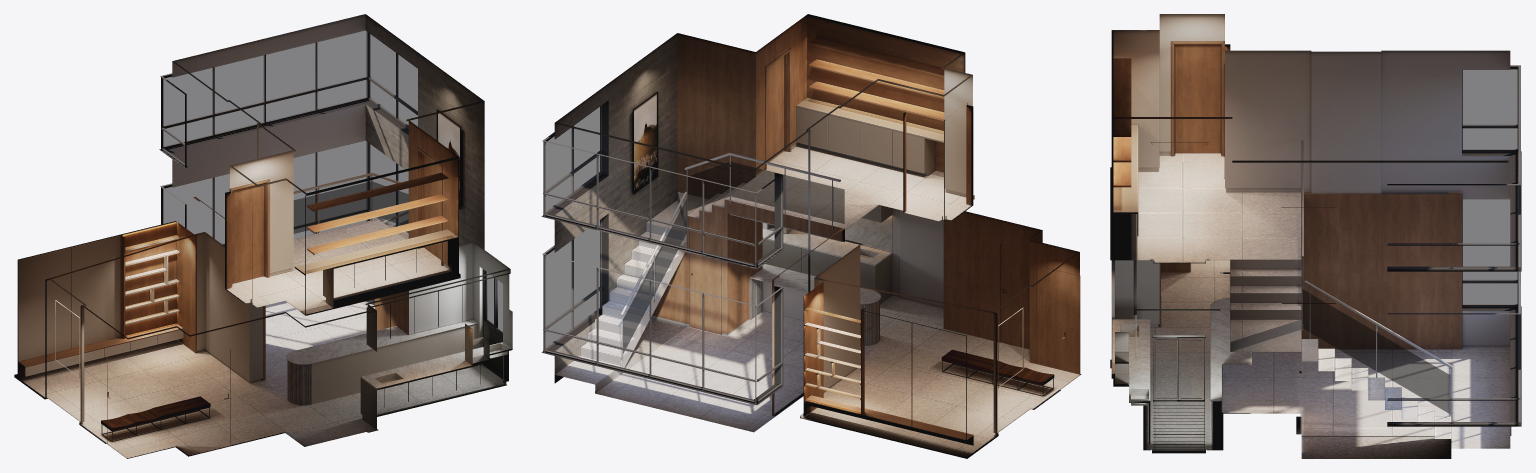
The model's file is duplex.glb.
3 renders of one model, left to right at view 1: azimuth 30°, elevation 25°; view 2: azimuth 150°, elevation 25°; view 3: azimuth 270°, elevation 25°, orthographic. The views are drawn at different scales.
Visible parts, largest first — view 1: Box029_0, Box034_1, Box037_2; view 2: Box029_0, Box034_1, Box037_2; view 3: Box029_0, Box034_1, Box037_2.
Part boxes in pixels (bbox=[...]): Box029_0: bbox=[14, 14, 512, 458]; Box034_1: bbox=[163, 30, 502, 332]; Box037_2: bbox=[293, 181, 408, 233]; Box029_0: bbox=[541, 14, 1081, 458]; Box034_1: bbox=[543, 107, 600, 351]; Box037_2: bbox=[623, 162, 844, 353]; Box029_0: bbox=[1110, 14, 1521, 458]; Box034_1: bbox=[1462, 69, 1517, 303]; Box037_2: bbox=[1303, 290, 1449, 412].
Size of the model in its own units: 8.77 by 5.53 by 6.92.
Materials: 3 (1 with a texture image).
